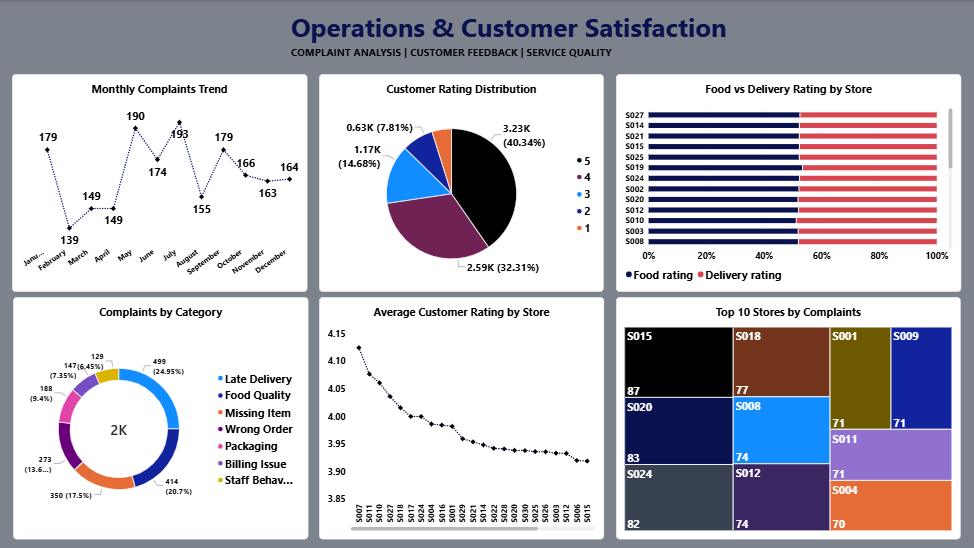

The dashboard page shown, as its layout file describes it:
{"tool":"powerbi","page":{"name":"Operations & customer satisfaction","canvas":[1920,1080],"ordinal":3},"visuals":[{"type":"lineChart","title":"Monthly Complaints Trend","fields":{"Category":["complaints.complaint_date.Variation.Date Hierarchy.Month"],"Y":["CountNonNull(complaints.complaint_id)"]},"box":[27.7,146.1,579.5,428.3],"z":0},{"type":"donutChart","title":"Complaints by Category","fields":{"Category":["complaints.complaint_category"],"Y":["CountNonNull(complaints.complaint_id)"]},"box":[28.7,584.1,579.7,476.1],"z":1000},{"type":"lineChart","title":"Average Customer Rating by Store","fields":{"Category":["customer_feedback.store_id"],"Y":["Avg(customer_feedback.overall_rating)"]},"box":[630.4,584.1,559.8,476.1],"z":2000},{"type":"pieChart","title":"Customer Rating Distribution","fields":{"Category":["customer_feedback.overall_rating"],"Y":["CountNonNull(customer_feedback.feedback_id)"]},"box":[629.9,146.1,559.4,428.3],"z":3000},{"type":"hundredPercentStackedBarChart","title":"Food vs Delivery Rating by Store","fields":{"Category":["customer_feedback.store_id"],"Y":["Avg(customer_feedback.food_rating)","Avg(customer_feedback.delivery_rating)"]},"box":[1214.5,146.1,677.8,428.3],"z":4000},{"type":"treemap","title":"Top 10 Stores by Complaints","fields":{"Group":["complaints.store_id"],"Values":["CountNonNull(complaints.complaint_id)"]},"box":[1214.4,584.1,676.7,476.1],"z":5000},{"type":"textbox","title":"Operations & Customer Satisfaction","box":[575.3,17.6,872.8,97],"z":6000}]}

Visuals, with their boxes in screenshot pixels (x1, y1, x2, y2), scaled from the page's 1920x1080 canvas onto the 974x548 screenshot:
"Monthly Complaints Trend" lineChart: BBox(14, 74, 308, 291)
"Complaints by Category" donutChart: BBox(15, 296, 309, 538)
"Average Customer Rating by Store" lineChart: BBox(320, 296, 604, 538)
"Customer Rating Distribution" pieChart: BBox(320, 74, 603, 291)
"Food vs Delivery Rating by Store" hundredPercentStackedBarChart: BBox(616, 74, 960, 291)
"Top 10 Stores by Complaints" treemap: BBox(616, 296, 959, 538)
"Operations & Customer Satisfaction" textbox: BBox(292, 9, 735, 58)
